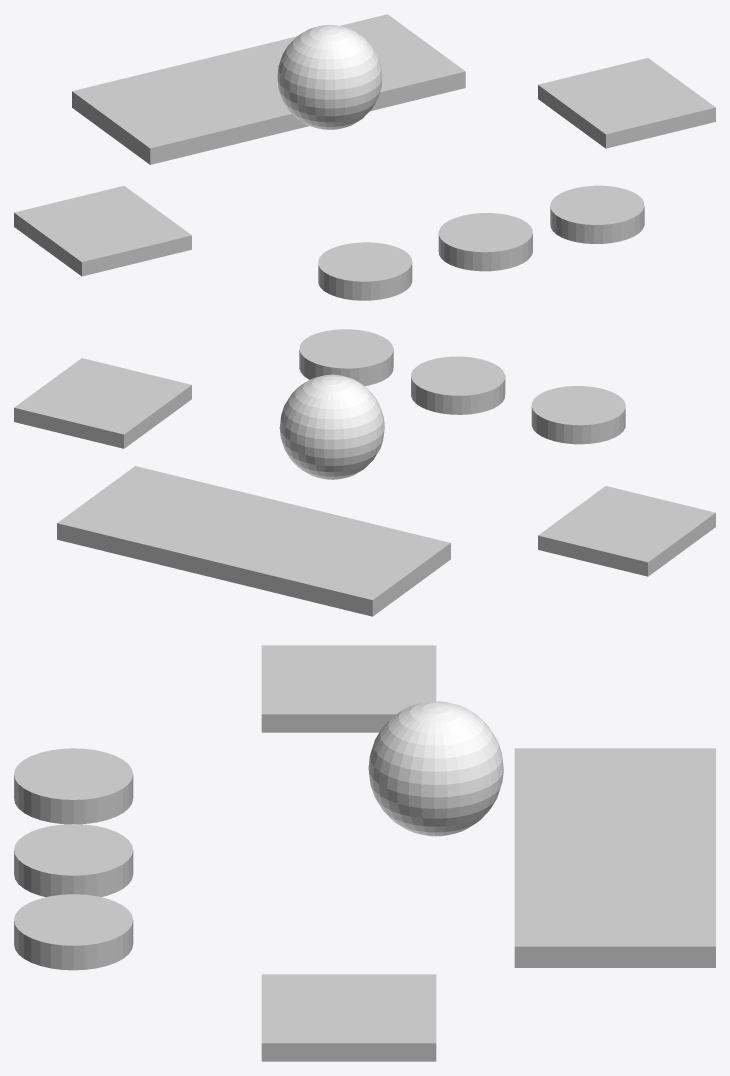
The model's file is b1trial.glb.
3 views of the same model, one above another, from view 1: azimuth 30°, elevation 25°; view 2: azimuth 150°, elevation 25°; view 3: azimuth 270°, elevation 25° (orthographic). The views are drawn at different scales.
Visible parts, largest first — view 1: Cube, Cylinder.002, Cube.001, Cube.002, Earth; view 2: Cube, Cylinder.002, Cube.002, Cube.001, Earth; view 3: Cube, Cylinder.002, Cube.002, Earth, Cube.001.
Part boxes in pixels (x1,y1,x2,y2): Cube: (72, 14, 465, 164); Cylinder.002: (318, 185, 644, 300); Cube.001: (14, 186, 191, 276); Cube.002: (538, 58, 715, 148); Earth: (277, 25, 382, 129); Cube: (57, 466, 450, 616); Cylinder.002: (299, 329, 625, 444); Cube.002: (14, 358, 191, 448); Cube.001: (538, 486, 715, 576); Earth: (279, 374, 384, 479); Cube: (514, 748, 715, 967); Cylinder.002: (14, 748, 133, 970); Cube.002: (261, 974, 436, 1061); Earth: (368, 701, 503, 836); Cube.001: (261, 645, 436, 732).
Bounding box in the file's own units: 6.96 × 1.28 × 5.18.
Materials: 1 (1 with a texture image).
